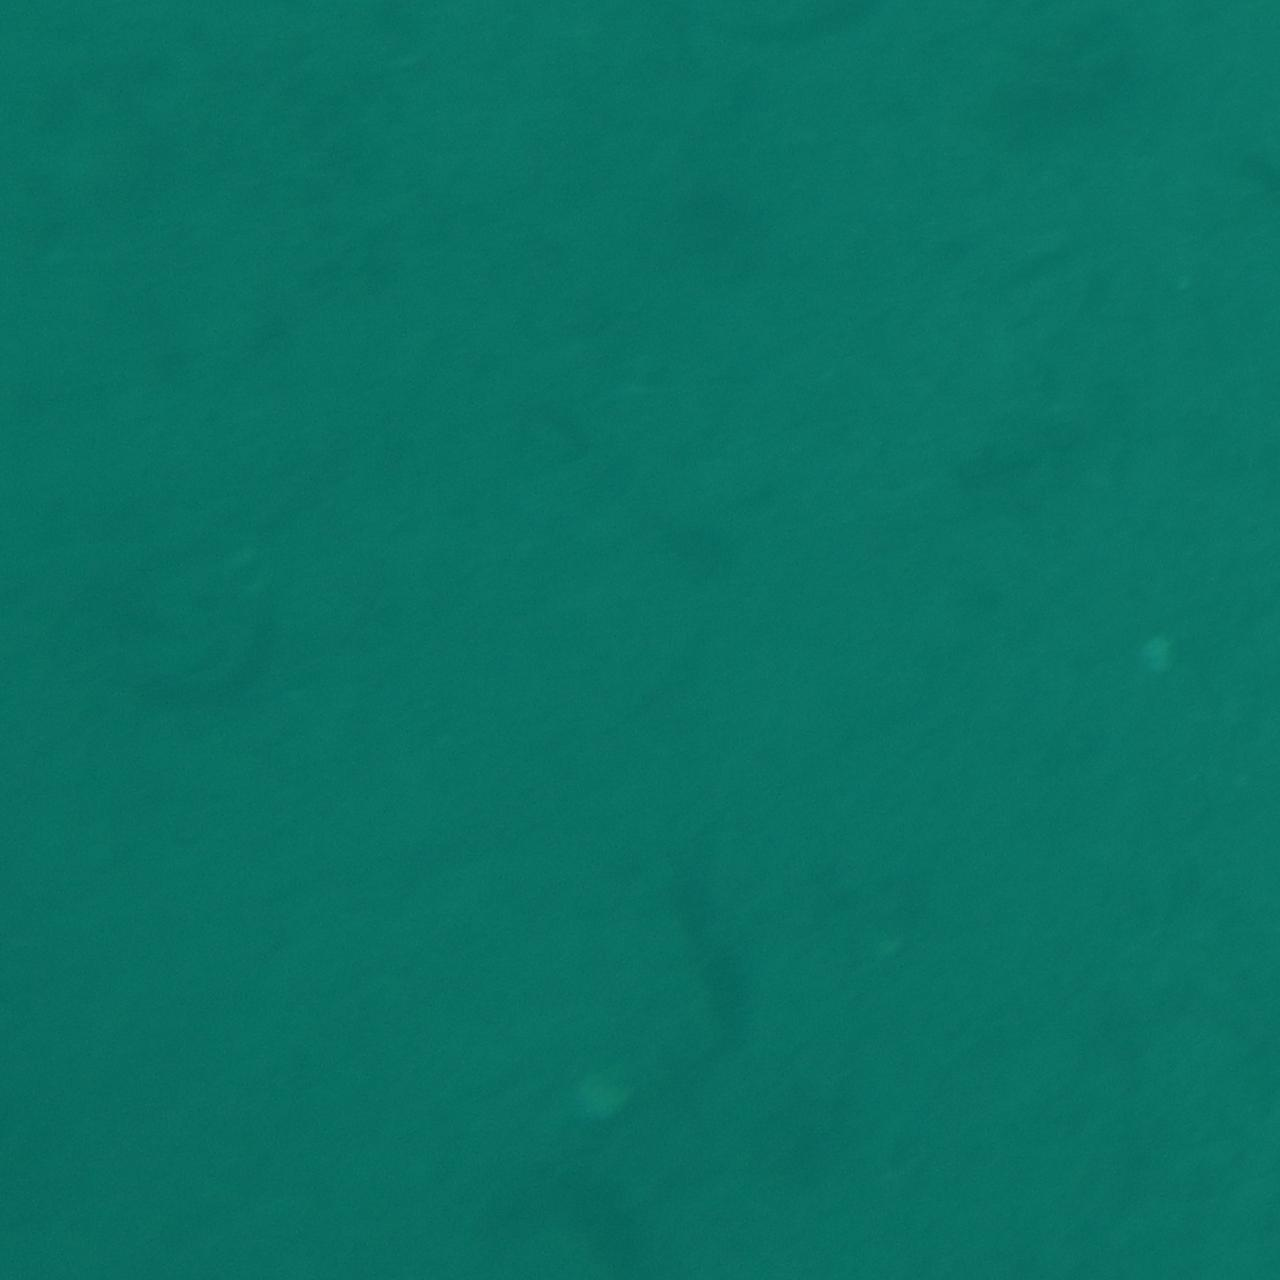Holothuria tubulosa: (113, 549, 301, 731)
